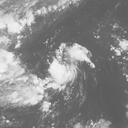cyclone: (46, 43, 94, 88)
